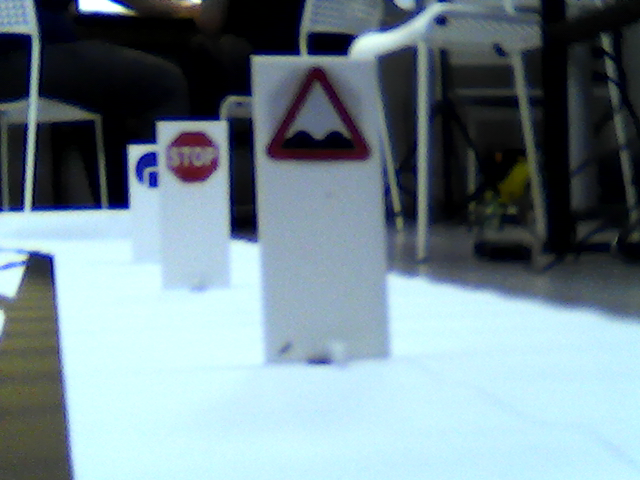Nerov: (266, 71, 375, 168)
Stop: (166, 126, 219, 184)
